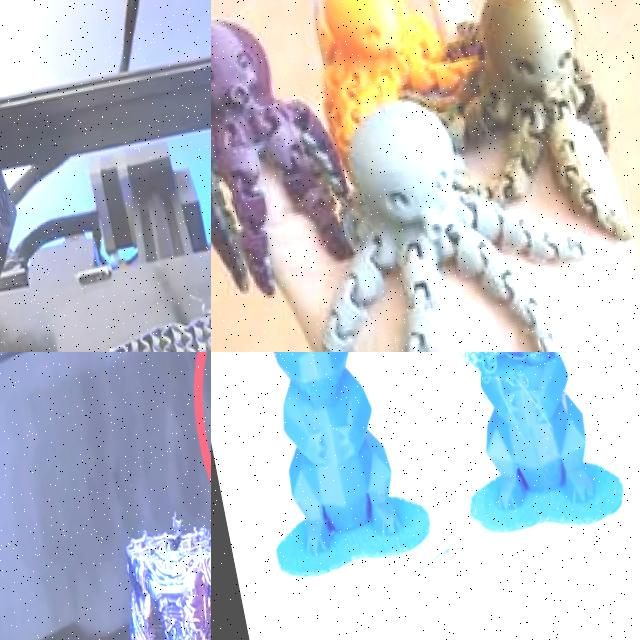spaghetti: (451, 352, 569, 435)
